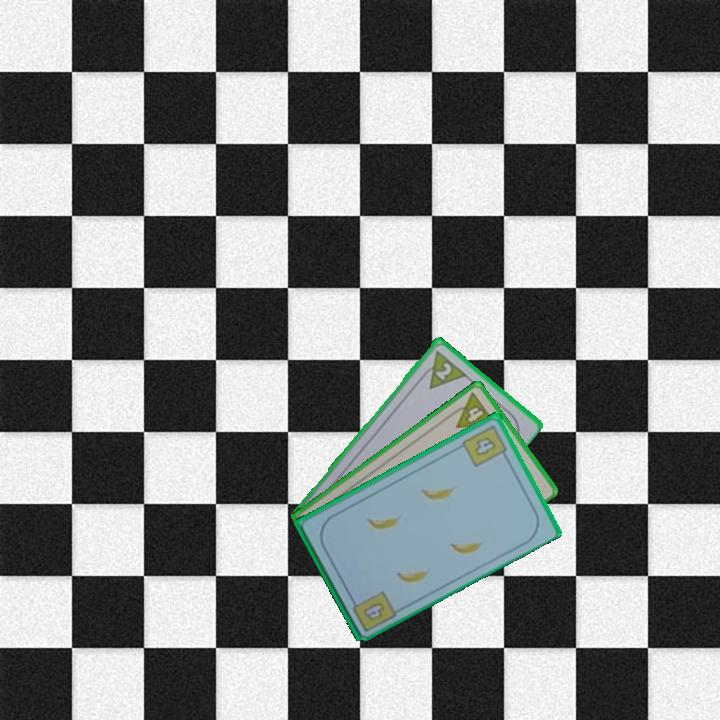2p: (415, 346, 469, 392)
4b: (346, 587, 399, 635), (459, 421, 511, 469)
4p: (445, 389, 499, 431)
